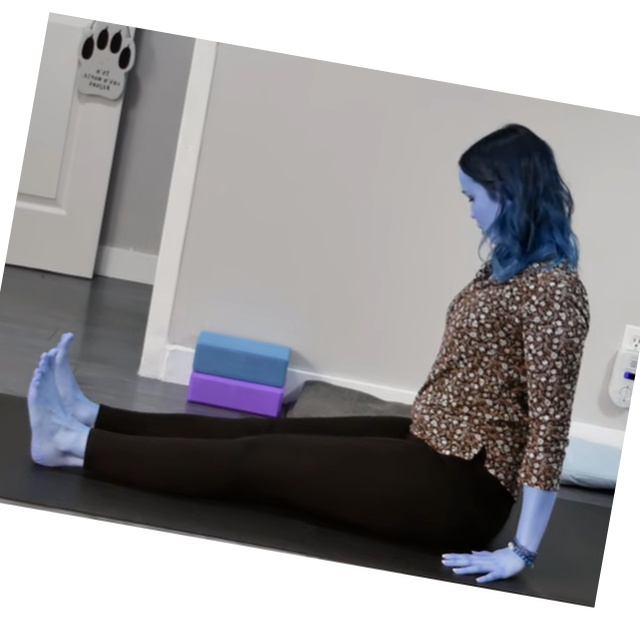Staff_Pose: (24, 122, 592, 586)
